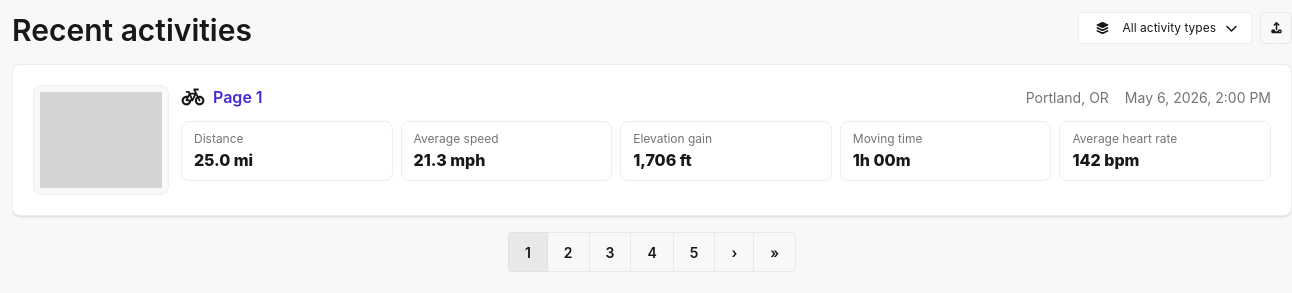
Test: ActivityStream › jumps from page five to page one and restores activity data and the URL
The width and height of the screenshot is (1292, 293).
Click the button "5" at (694, 252), box [673,232,715,272]
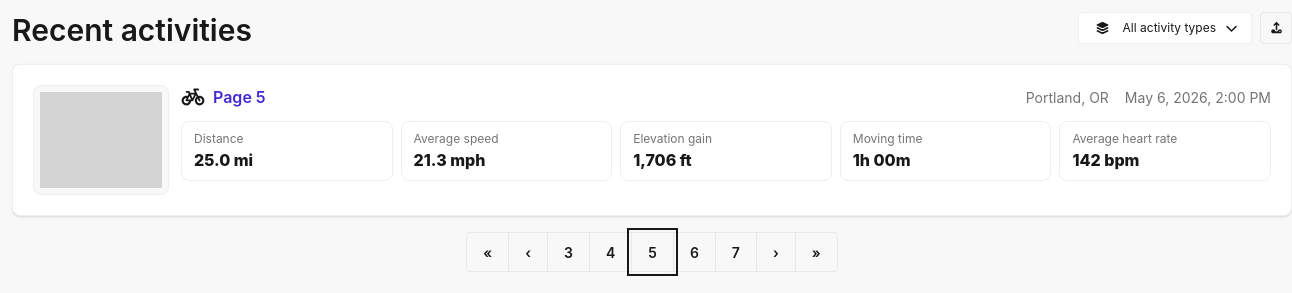
Now the heading "Page 5" is shown, box [213,87,266,107]
Click the button named "First page" at (488, 252), box [466,232,509,272]
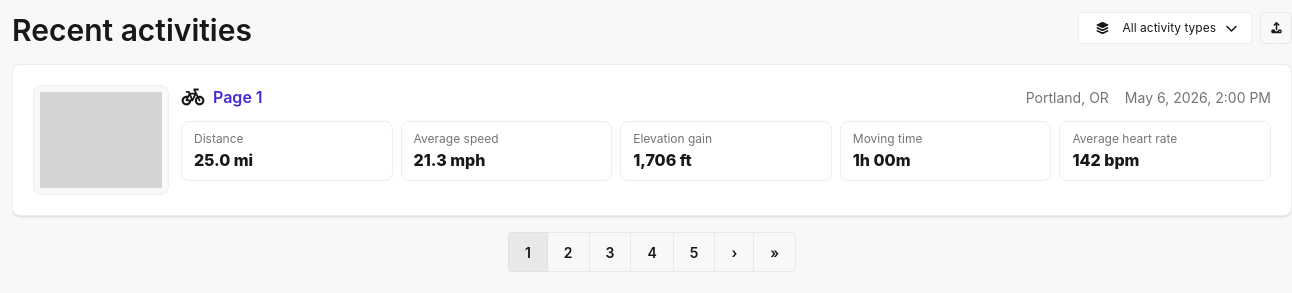
Now the heading "Page 1" is shown, box [213,87,263,107]
